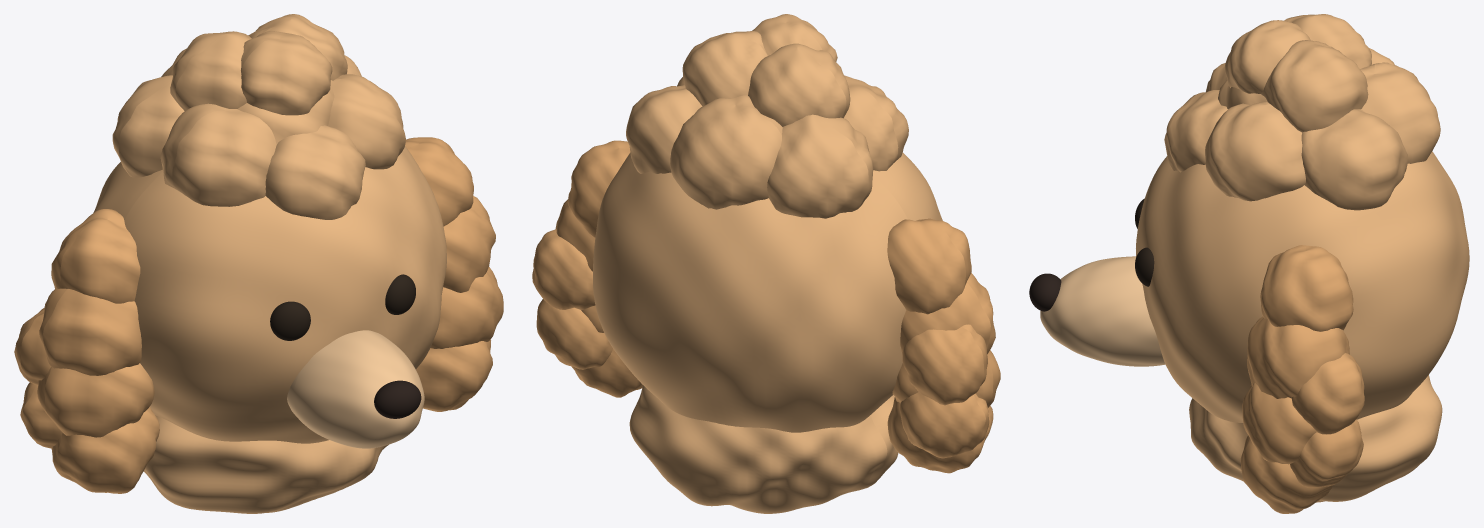
The model's file is head-dog-poodle-full.glb.
3 views of the same model, side by side, from view 1: azimuth 30°, elevation 25°; view 2: azimuth 150°, elevation 25°; view 3: azimuth 270°, elevation 25° (orthographic). The views are drawn at different scales.
Visible parts, largest first — view 1: PM_FUR_MAIN_1, PM_FUR_MAIN_28, PM_FUR_SECONDARY_24, PM_FUR_MAIN_4, PM_FUR_MAIN_8, PM_EARS_13, PM_EARS_14, PM_FUR_MAIN_11, PM_EARS_12, PM_EARS_15, PM_FUR_MAIN_3, PM_FUR_MAIN_10 (+12 smaller); view 2: PM_FUR_MAIN_1, PM_FUR_MAIN_28, PM_FUR_MAIN_7, PM_FUR_MAIN_6, PM_EARS_12, PM_FUR_MAIN_10, PM_EARS_16, PM_FUR_MAIN_9, PM_EARS_17, PM_FUR_MAIN_5, PM_EARS_22, PM_FUR_MAIN_4 (+8 smaller); view 3: PM_FUR_MAIN_1, PM_FUR_MAIN_28, PM_FUR_SECONDARY_24, PM_FUR_MAIN_5, PM_FUR_MAIN_3, PM_FUR_MAIN_9, PM_EARS_18, PM_EARS_19, PM_FUR_MAIN_7, PM_EARS_22, PM_EARS_20, PM_FUR_MAIN_11 (+7 smaller).
Part boxes in pixels (x1,y1,x2,y2): PM_FUR_MAIN_1: [93, 146, 446, 443]; PM_FUR_MAIN_28: [143, 415, 388, 513]; PM_FUR_SECONDARY_24: [287, 330, 424, 448]; PM_FUR_MAIN_4: [160, 103, 276, 206]; PM_FUR_MAIN_8: [265, 125, 365, 219]; PM_EARS_13: [39, 288, 141, 375]; PM_EARS_14: [37, 363, 154, 437]; PM_FUR_MAIN_11: [241, 31, 332, 115]; PM_EARS_12: [51, 209, 140, 303]; PM_EARS_15: [51, 407, 159, 493]; PM_FUR_MAIN_3: [328, 74, 405, 169]; PM_FUR_MAIN_10: [170, 31, 251, 110]; PM_FUR_MAIN_1: [593, 152, 942, 432]; PM_FUR_MAIN_28: [629, 385, 898, 513]; PM_FUR_MAIN_7: [670, 95, 782, 209]; PM_FUR_MAIN_6: [767, 114, 873, 218]; PM_EARS_12: [887, 218, 971, 314]; PM_FUR_MAIN_10: [748, 43, 850, 126]; PM_EARS_16: [902, 324, 987, 405]; PM_FUR_MAIN_9: [682, 31, 767, 106]; PM_EARS_17: [900, 392, 989, 458]; PM_FUR_MAIN_5: [626, 84, 702, 173]; PM_EARS_22: [532, 229, 595, 309]; PM_FUR_MAIN_4: [844, 75, 908, 171]; PM_FUR_MAIN_1: [1136, 151, 1469, 422]; PM_FUR_MAIN_28: [1189, 375, 1442, 502]; PM_FUR_SECONDARY_24: [1040, 256, 1165, 366]; PM_FUR_MAIN_5: [1301, 109, 1407, 210]; PM_FUR_MAIN_3: [1205, 102, 1305, 201]; PM_FUR_MAIN_9: [1261, 40, 1368, 132]; PM_EARS_18: [1260, 245, 1353, 331]; PM_EARS_19: [1247, 316, 1349, 398]; PM_FUR_MAIN_7: [1360, 62, 1440, 163]; PM_EARS_22: [1291, 353, 1364, 434]; PM_EARS_20: [1242, 383, 1316, 464]; PM_FUR_MAIN_11: [1224, 20, 1310, 93].
Bounding box in the file's own units: 0.0844 × 0.0827 × 0.0724.
